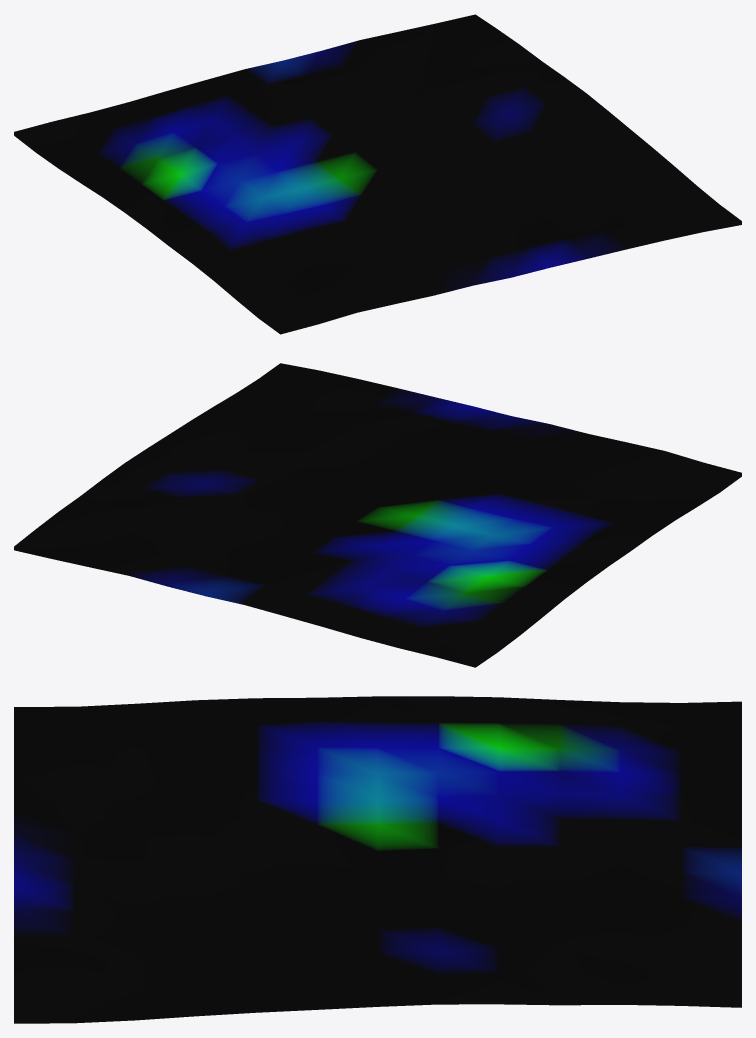
Rendered from coast_15_5.glb.
3 views of the same model, one above another, from view 1: azimuth 30°, elevation 25°; view 2: azimuth 150°, elevation 25°; view 3: azimuth 270°, elevation 25° (orthographic). The views are drawn at different scales.
Visible parts, largest first — view 1: terrain; view 2: terrain; view 3: terrain.
Boxes of the visible parts, bbox=[...] form: terrain: bbox=[14, 14, 741, 334]; terrain: bbox=[14, 363, 741, 667]; terrain: bbox=[14, 696, 741, 1023].
Bounding box in the file's own units: 192 × 7.28 × 192.
